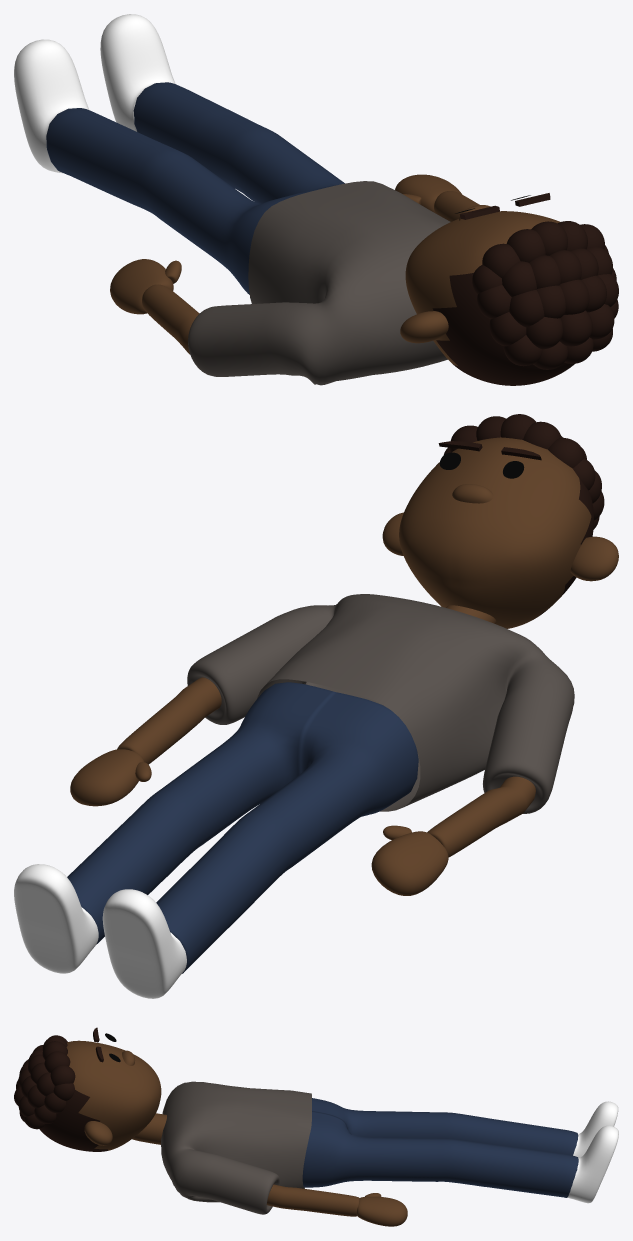
Rendered from sleeper.fbx.
The picture shows the model from 3 angles, top to bottom: view 1: azimuth 30°, elevation 25°; view 2: azimuth 150°, elevation 25°; view 3: azimuth 270°, elevation 25°; orthographic projection. The views are drawn at different scales.
Parts seen in each view (by area): view 1: black-teen-shirt.001, black-teen-pants.001, Cube.054, black-teen-head.001, black-teen-shoes.001, black-teen-hands.001, black-teen-arms.001, black-teen-ears.001; view 2: black-teen-pants.001, black-teen-shirt.001, black-teen-head.001, black-teen-shoes.001, black-teen-arms.001, black-teen-hands.001, Cube.054, black-teen-ears.001; view 3: black-teen-pants.001, black-teen-shirt.001, black-teen-head.001, Cube.054, black-teen-shoes.001, black-teen-arms.001, black-teen-hands.001, black-teen-neck.001, black-teen-ears.001.
Part boxes in pixels (box(x1,y1,x2,y2)): black-teen-shirt.001: box(188, 181, 450, 385); black-teen-pants.001: box(46, 82, 344, 294); Cube.054: box(472, 221, 618, 369); black-teen-head.001: box(405, 211, 574, 385); black-teen-shoes.001: box(14, 14, 175, 173); black-teen-hands.001: box(110, 174, 461, 314); black-teen-arms.001: box(142, 191, 479, 354); black-teen-ears.001: box(400, 311, 448, 343); black-teen-pants.001: box(67, 682, 418, 973); black-teen-shirt.001: box(187, 594, 574, 813); black-teen-head.001: box(399, 437, 593, 628); black-teen-shoes.001: box(14, 864, 186, 998); black-teen-arms.001: box(117, 677, 535, 857); black-teen-hands.001: box(70, 749, 448, 895); Cube.054: box(444, 414, 604, 529); black-teen-ears.001: box(382, 512, 618, 581); black-teen-pants.001: box(302, 1098, 578, 1197); black-teen-shirt.001: box(161, 1081, 311, 1214); black-teen-head.001: box(39, 1040, 161, 1151); Cube.054: box(14, 1035, 75, 1129); black-teen-shoes.001: box(567, 1101, 618, 1203); black-teen-arms.001: box(266, 1184, 359, 1216); black-teen-hands.001: box(356, 1193, 407, 1226); black-teen-neck.001: box(132, 1113, 166, 1144); black-teen-ears.001: box(84, 1121, 112, 1145).
Bounding box in the file's own units: 265 × 170 × 611.
